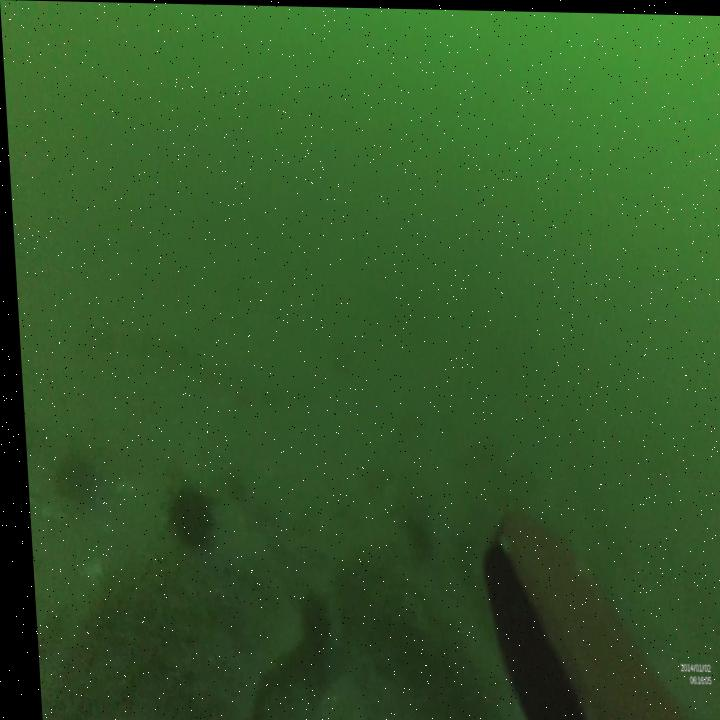echinus: (160, 486, 207, 542), (46, 448, 89, 502)
